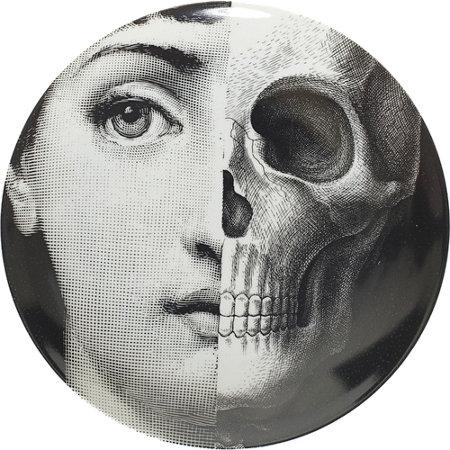person: (37, 13, 430, 416)
